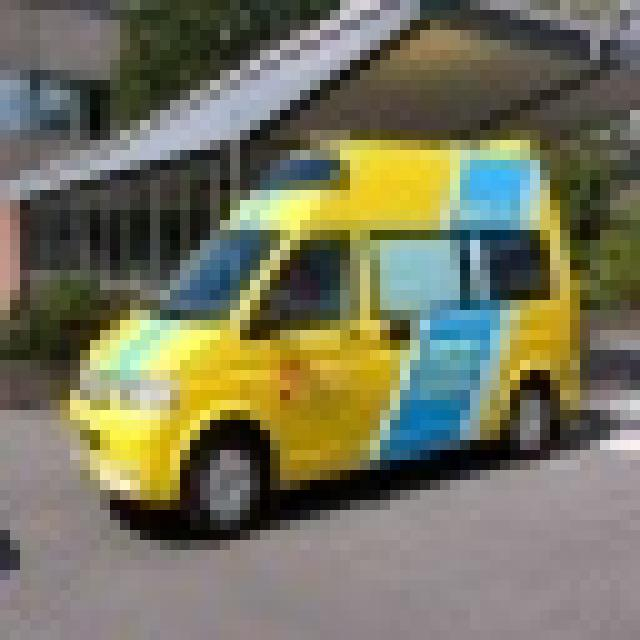Ambulance: (60, 130, 580, 530)
